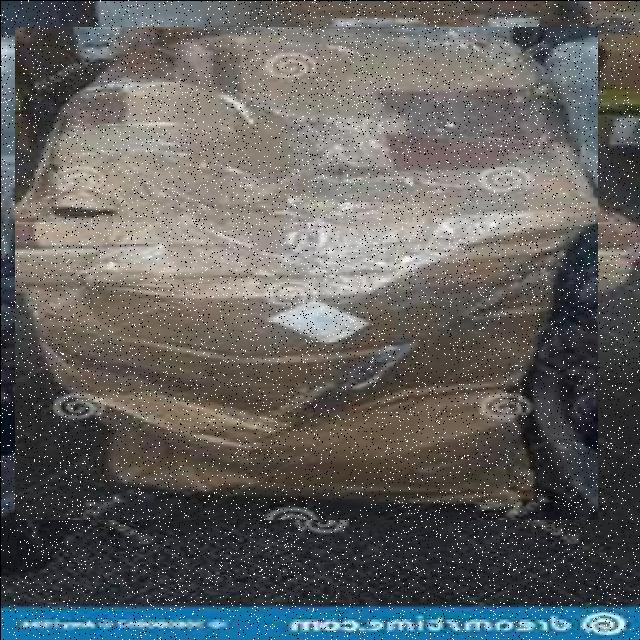defect: (14, 26, 597, 519)
